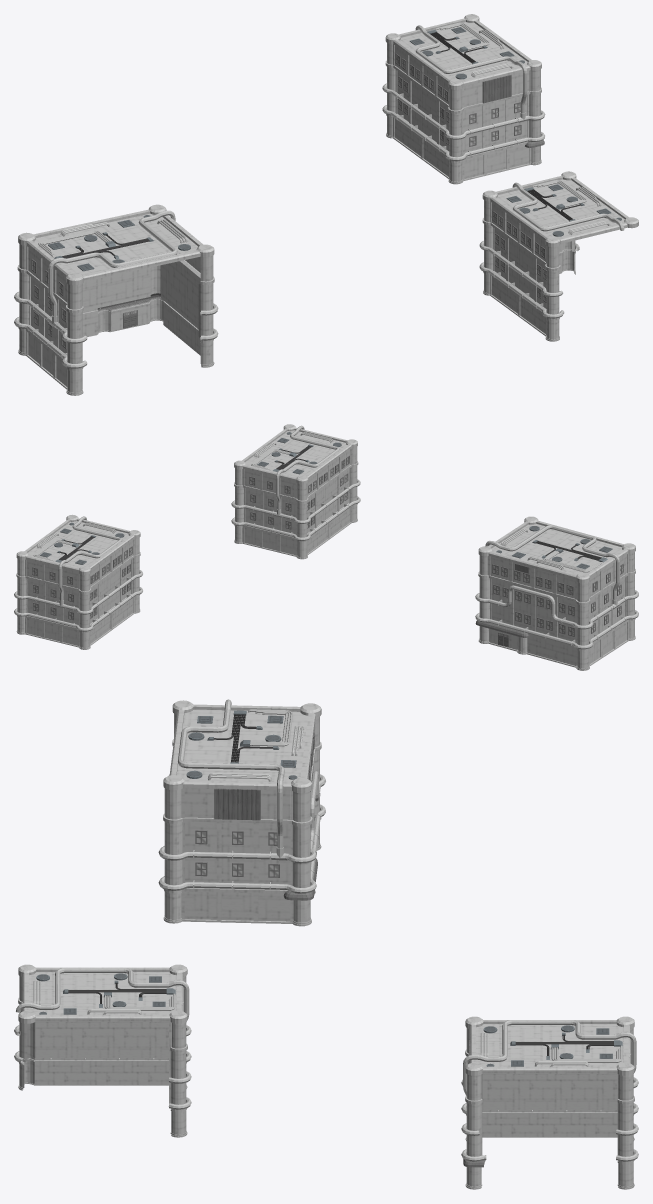
Rendered from MERGED_SM_ENV_KNVLLG_CommonBuilding_F_1.mo.fbx.
3 renders of one model, top to bottom at view 1: azimuth 30°, elevation 25°; view 2: azimuth 150°, elevation 25°; view 3: azimuth 270°, elevation 25°, orthographic. The views are drawn at different scales.
Parts seen in each view (by area): view 1: MERGED_SM_ENV_KNVLLG_CommonBuilding_F_1.mo; view 2: MERGED_SM_ENV_KNVLLG_CommonBuilding_F_1.mo; view 3: MERGED_SM_ENV_KNVLLG_CommonBuilding_F_1.mo.
Part boxes in pixels (<box>): MERGED_SM_ENV_KNVLLG_CommonBuilding_F_1.mo: <box>14,14,638,395</box>; MERGED_SM_ENV_KNVLLG_CommonBuilding_F_1.mo: <box>14,424,638,670</box>; MERGED_SM_ENV_KNVLLG_CommonBuilding_F_1.mo: <box>14,699,638,1189</box>.
Bounding box in the file's own units: 160 × 30.45 × 119.
